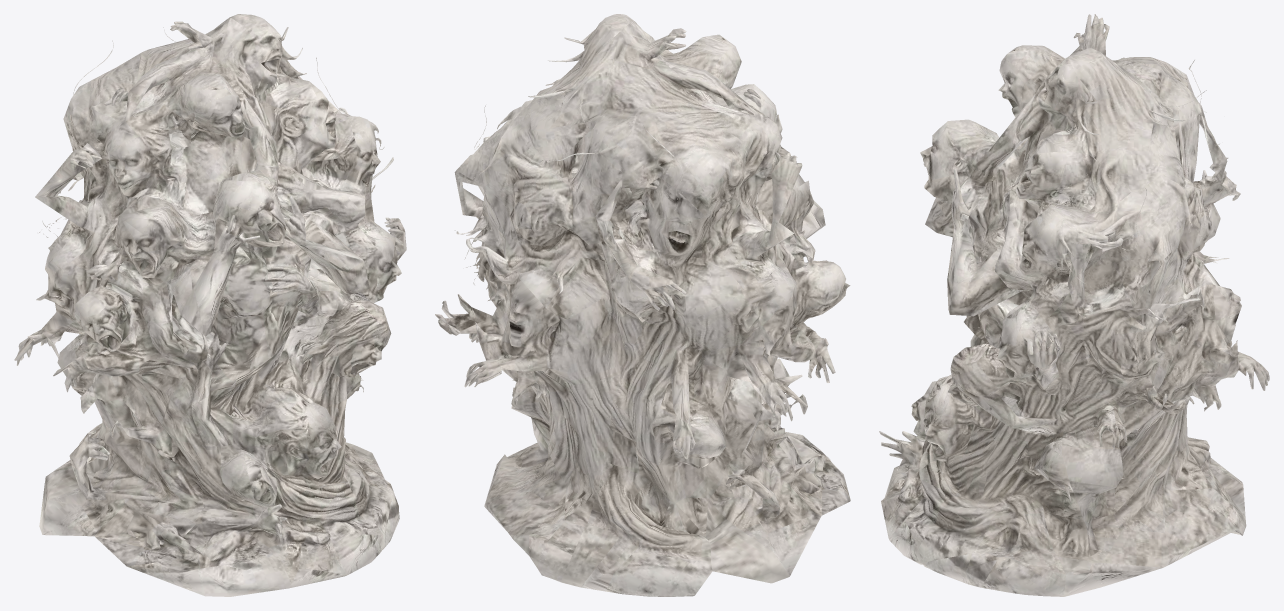
The model's file is horde.glb.
The picture shows the model from 3 angles, left to right: view 1: azimuth 30°, elevation 25°; view 2: azimuth 150°, elevation 25°; view 3: azimuth 270°, elevation 25°; orthographic projection. The views are drawn at different scales.
Size of the model in its own units: 1.44 by 1.9 by 1.36.
1 material, 1 textured.
